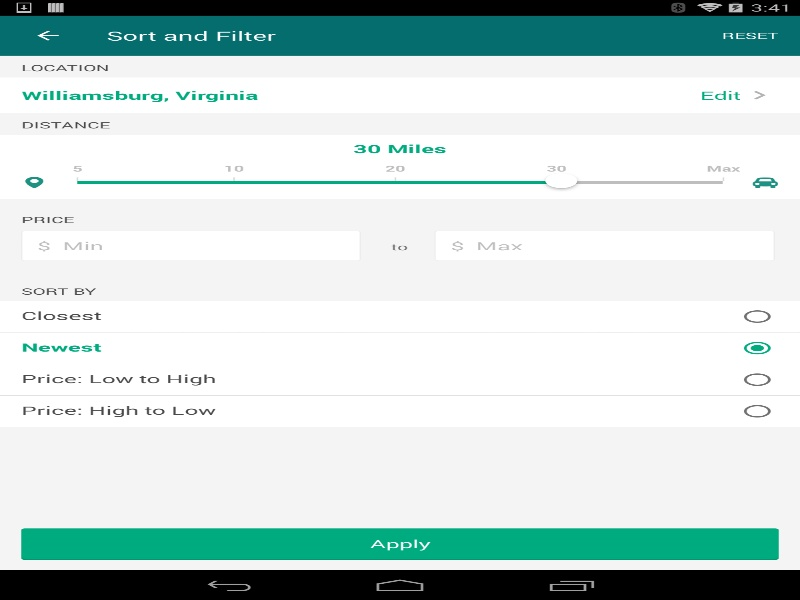Button: (10, 15, 85, 55)
Input: (434, 230, 774, 260), (21, 230, 360, 260)
